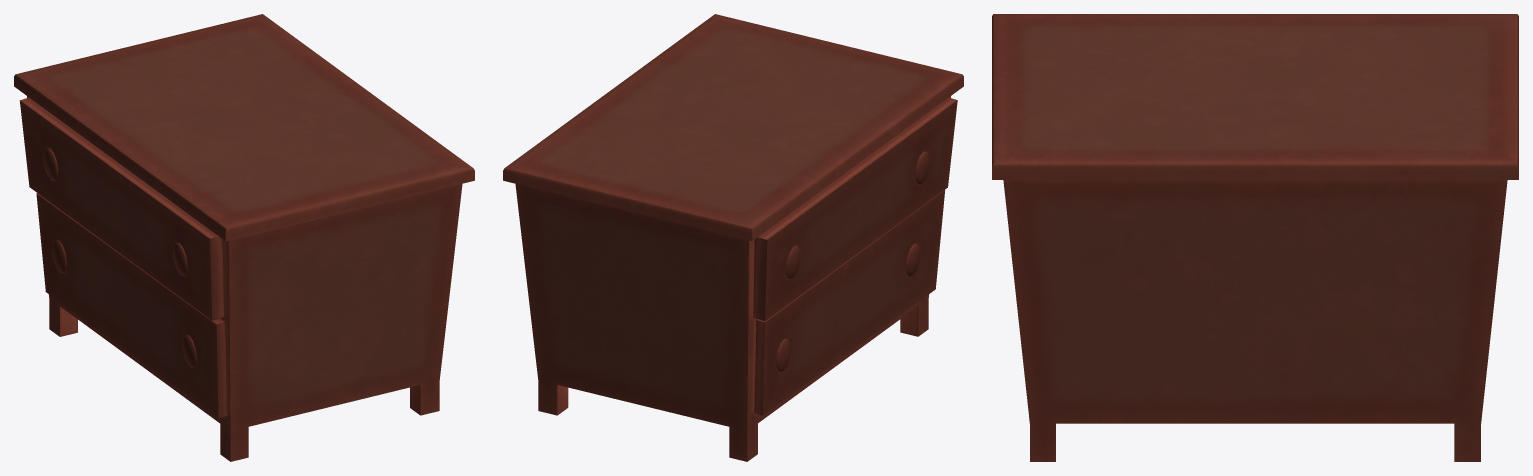
File: SM_Desk.fbx
3 renders of one model, left to right at view 1: azimuth 30°, elevation 25°; view 2: azimuth 150°, elevation 25°; view 3: azimuth 270°, elevation 25°, orthographic. The views are drawn at different scales.
Visible parts, largest first — view 1: SM_Desk_LOD0; view 2: SM_Desk_LOD0; view 3: SM_Desk_LOD0.
Boxes of the visible parts, x1=… form: SM_Desk_LOD0: x1=14, y1=14, x2=474, y2=461; SM_Desk_LOD0: x1=503, y1=14, x2=963, y2=461; SM_Desk_LOD0: x1=992, y1=14, x2=1518, y2=461.
Bounding box in the file's own units: 109 × 157 × 102.
1 material, 1 textured.
